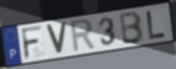3: (97, 16, 117, 47)
B: (119, 10, 146, 46)
F: (20, 25, 44, 62)
L: (145, 9, 168, 40)
R: (69, 17, 98, 54)
V: (44, 22, 69, 56)
